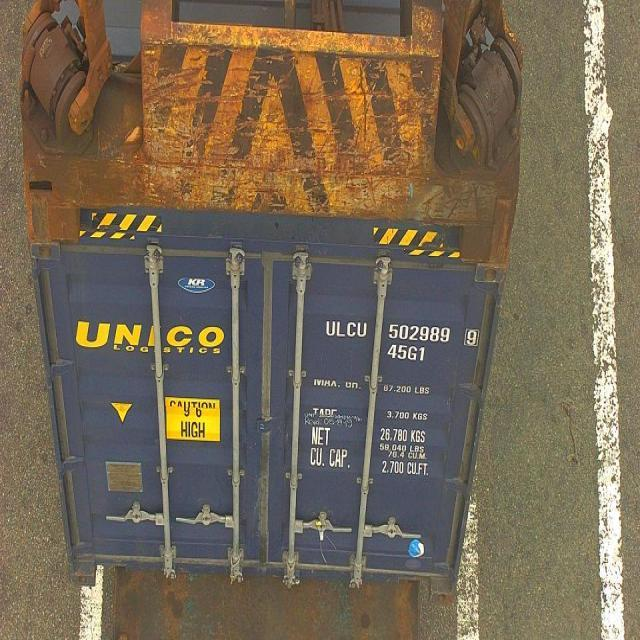ISO: (388, 346, 426, 362)
container_number: (324, 314, 480, 348)
